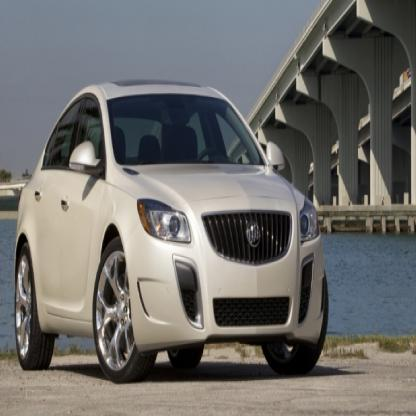car: (15, 82, 330, 386)
